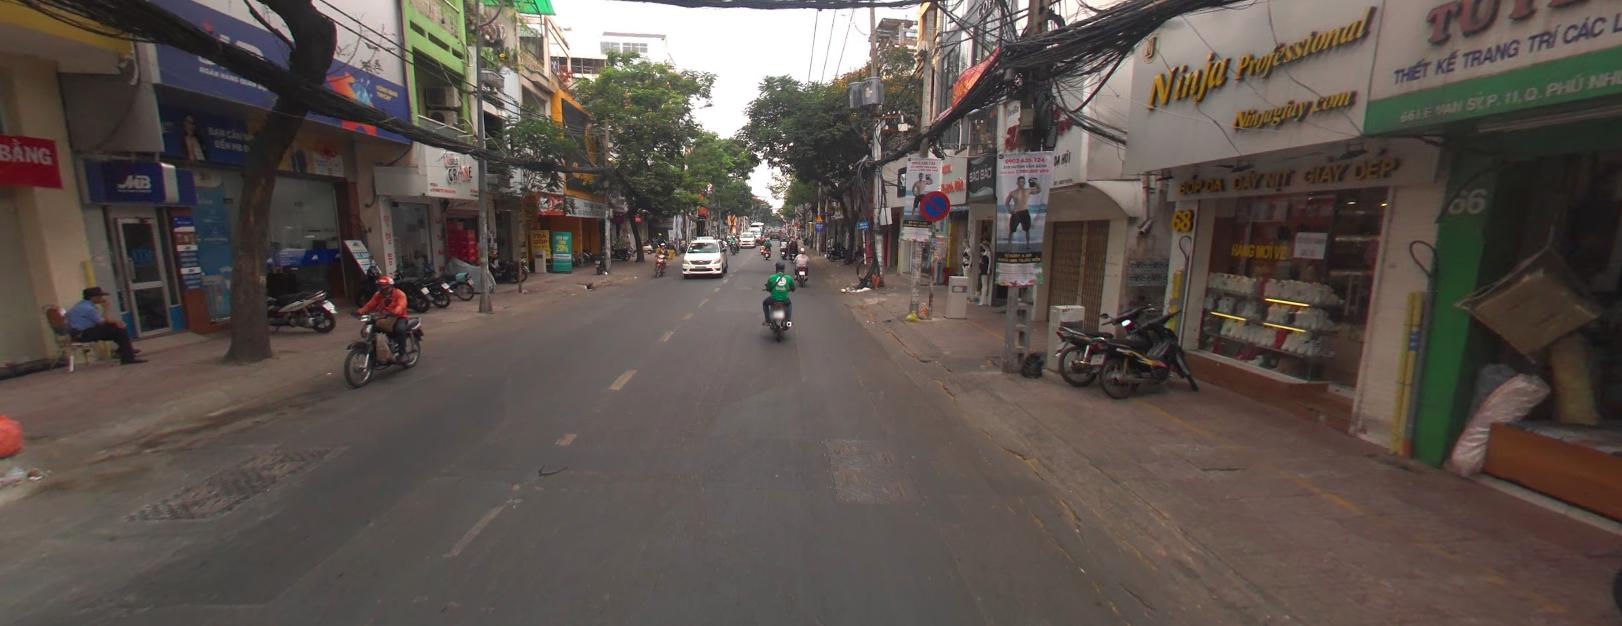Cam dung va do: (917, 188, 950, 219)
Nguy hiem: (814, 214, 823, 221)
